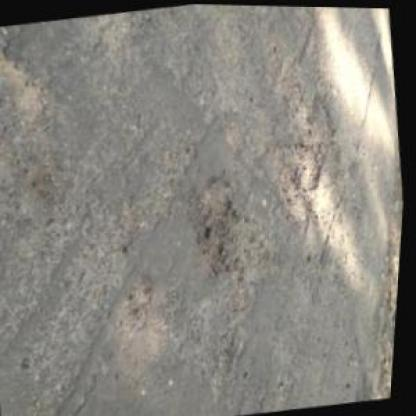pothole: (180, 171, 252, 284), (268, 136, 334, 227), (124, 272, 164, 331)
